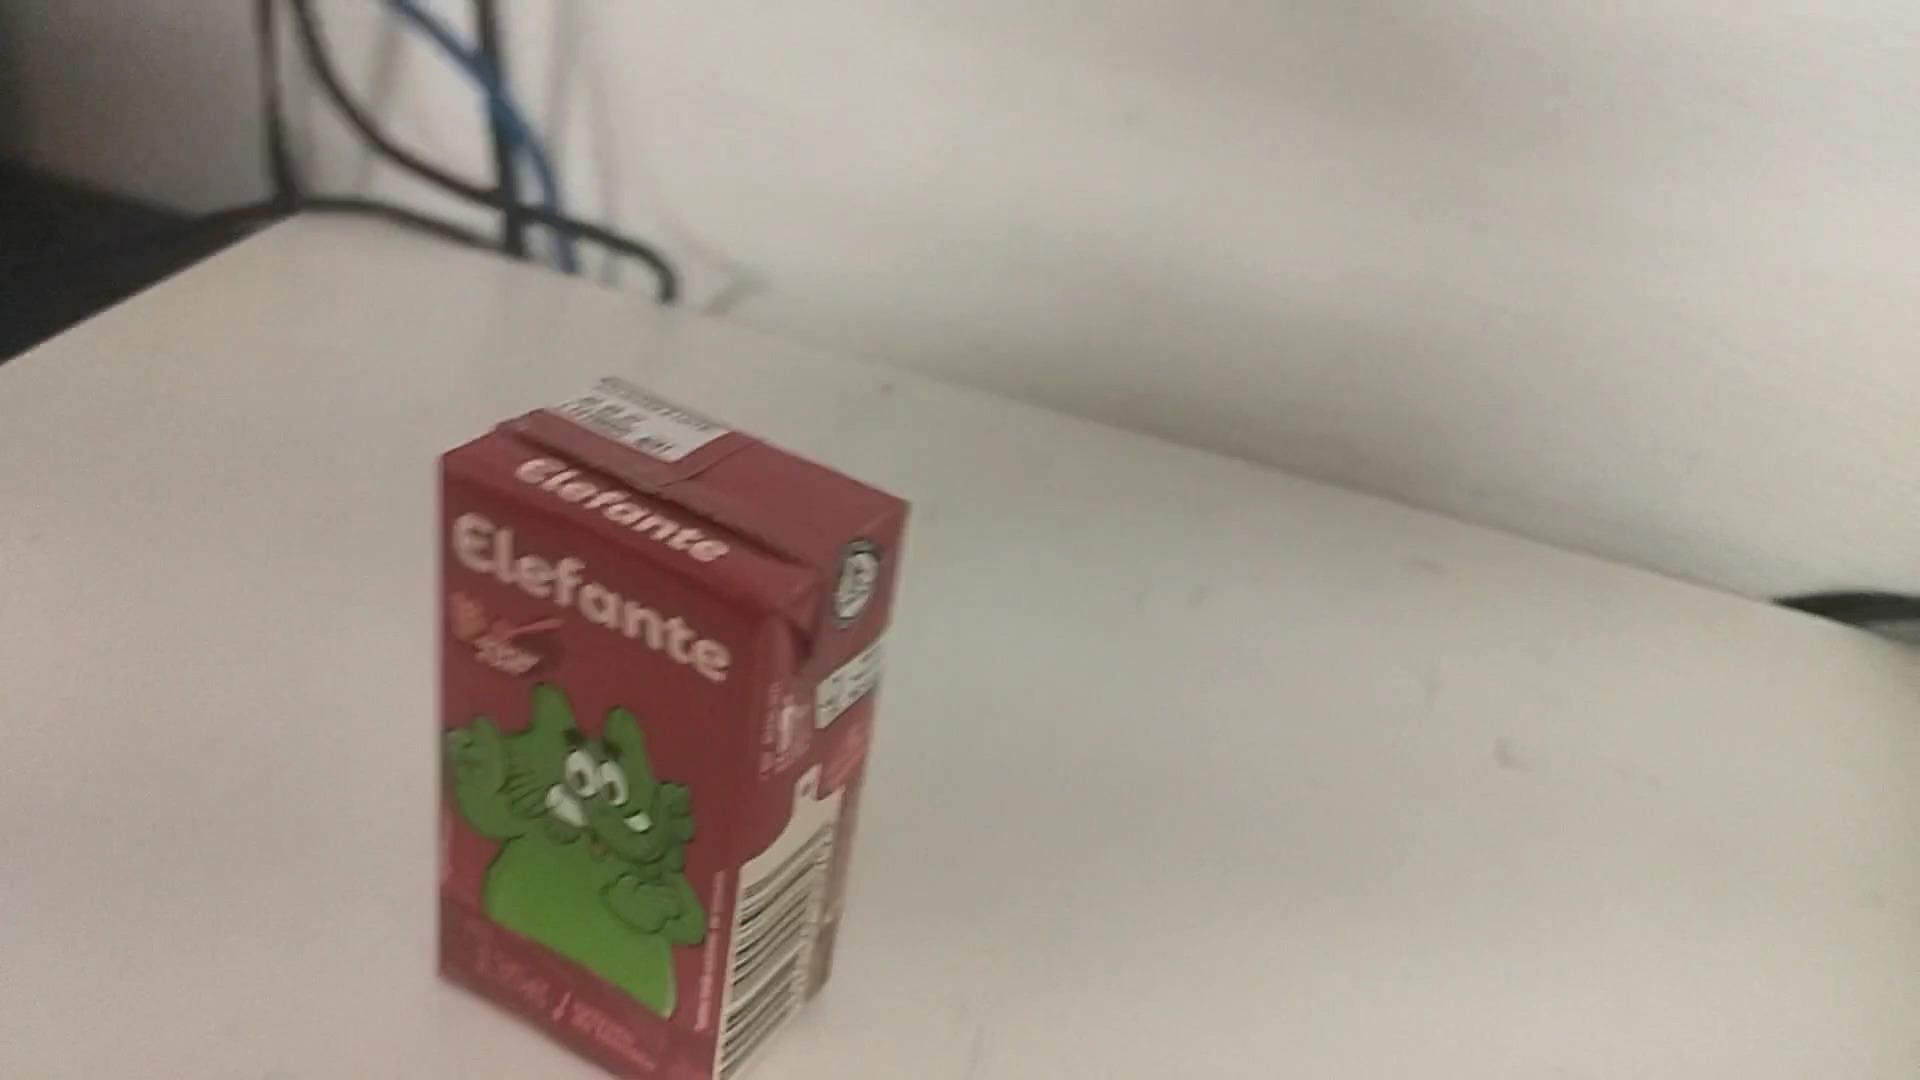tomate: (426, 373, 911, 1076)
